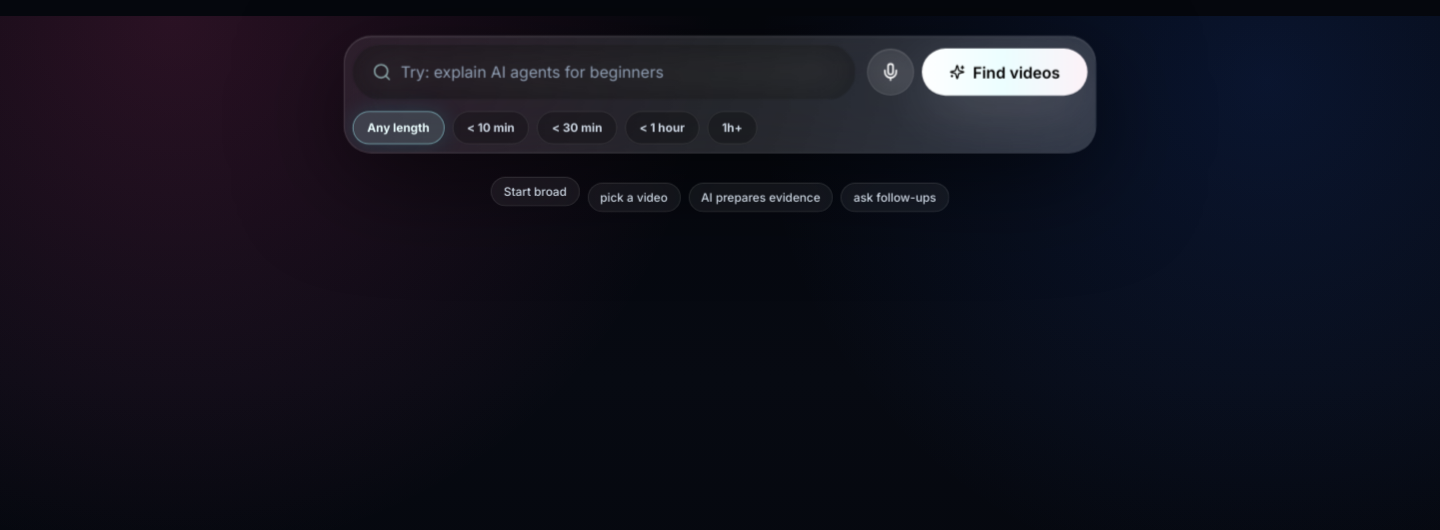
SearchConsole – voice input › Web Speech API › shows no-speech error message
Click the button named "start voice search" at (890, 72), box [867,48,914,95]
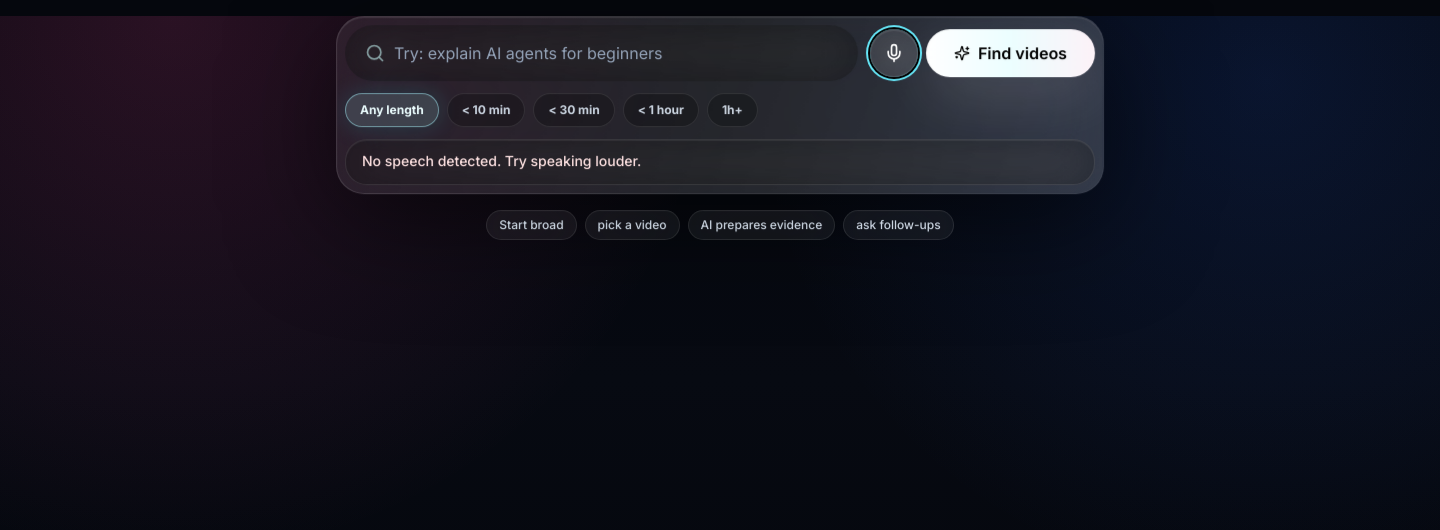
Now the text "No speech detected. Try speaking louder." is shown, box [362,153,641,170]
